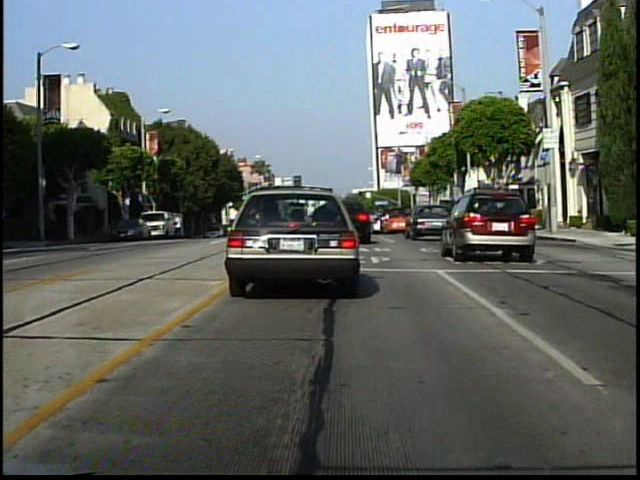person: (174, 211, 185, 241)
